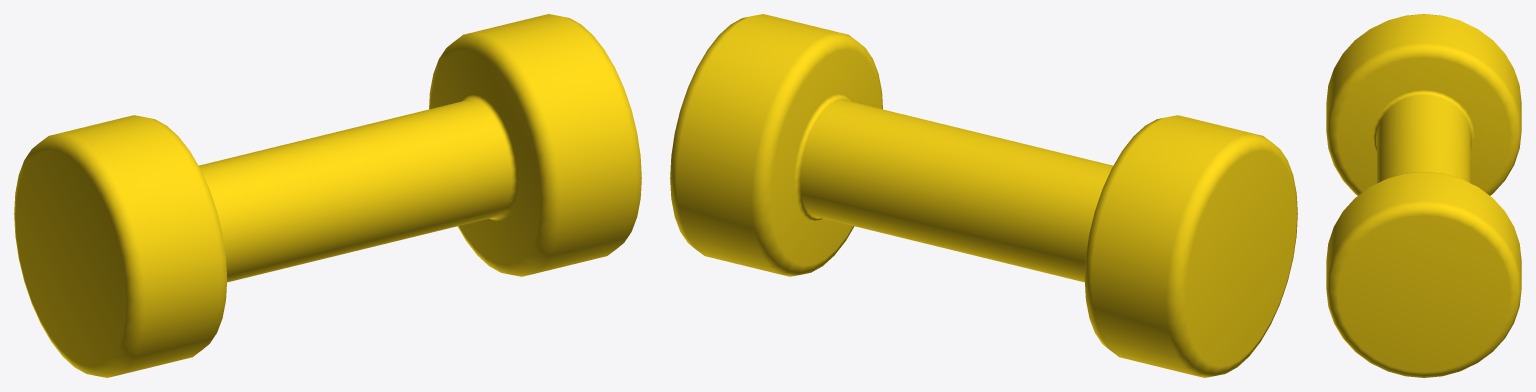
The model's file is Public_18_Dumbbell_1.glb.
The picture shows the model from 3 angles, left to right: view 1: azimuth 30°, elevation 25°; view 2: azimuth 150°, elevation 25°; view 3: azimuth 270°, elevation 25°; orthographic projection. The views are drawn at different scales.
Parts seen in each view (by area): view 1: Public_18_Dumbbell_1; view 2: Public_18_Dumbbell_1; view 3: Public_18_Dumbbell_1.
Boxes of the visible parts, <box> form: Public_18_Dumbbell_1: <box>14,14,641,377</box>; Public_18_Dumbbell_1: <box>670,14,1297,377</box>; Public_18_Dumbbell_1: <box>1326,14,1521,377</box>.
Bounding box in the file's own units: 0.9428 × 0.3975 × 0.3975.
1 material, 1 textured.
